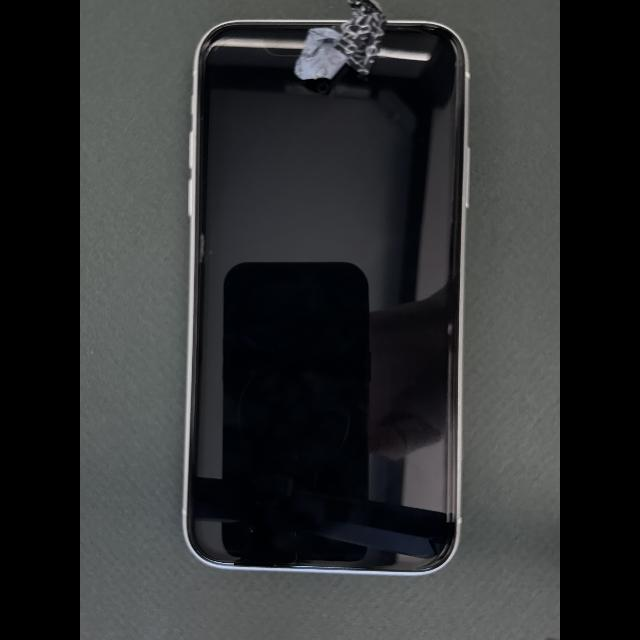phone: (182, 19, 470, 577)
sticker: (295, 0, 388, 81)
